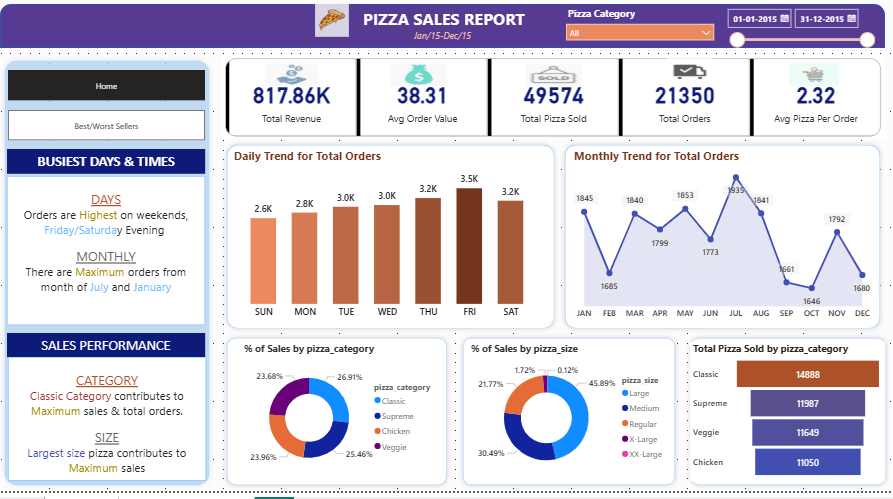

The page's visual inventory and layout, read from the dashboard file:
{"tool":"powerbi","page":{"name":"Home","canvas":[1500,820],"ordinal":0},"visuals":[{"type":"shape","box":[14.9,101,354.2,718.3],"z":0},{"type":"cardVisual","fields":{"Data":["pizza_sales.Total Revenue","pizza_sales.Avg Order Value","pizza_sales.Total Pizza Sold","pizza_sales.Total Orders","pizza_sales.Avg Pizza Per Order"]},"box":[382,100,1098,140],"z":1000},{"type":"image","box":[454,112,88,38],"z":2000},{"type":"image","box":[662,112,92,38],"z":3000},{"type":"image","box":[884,112,94,38],"z":4000},{"type":"image","box":[1118.9,104.3,76.1,46.3],"z":5000},{"type":"image","box":[1320.8,112.6,82.8,38.1],"z":6000},{"type":"shape","box":[14.9,14.9,1464.8,72.8],"z":7000},{"type":"textbox","box":[600.8,14.9,297.9,46.3],"z":8000},{"type":"textbox","box":[695.2,51.3,107.6,36.4],"z":9000},{"type":"image","box":[521.4,13.2,86.1,56.3],"z":10000},{"type":"shape","box":[382,240,558,320],"z":11000},{"type":"columnChart","title":"Daily Trend for Total Orders ","fields":{"Category":["pizza_sales.Order Day"],"Y":["pizza_sales.Total Orders"]},"box":[398,254,518,292],"z":12000},{"type":"shape","box":[942,240,538,320],"z":13000},{"type":"areaChart","title":"Monthly Trend for Total Orders","fields":{"Category":["pizza_sales.Order Month"],"Y":["pizza_sales.Total Orders"]},"box":[960,254,504,292],"z":14000},{"type":"textbox","box":[26.5,254.9,327.7,41.4],"z":15000},{"type":"shape","box":[382,560,380,260],"z":16000},{"type":"shape","box":[773,559.4,367.4,259.9],"z":17000},{"type":"shape","box":[1150.3,559.4,339.3,259.9],"z":18000},{"type":"donutChart","title":"% of Sales by pizza_category","fields":{"Category":["pizza_sales.pizza_category"],"Y":["pizza_sales.Total Revenue"]},"box":[413.8,574.3,334.3,230.1],"z":19000},{"type":"donutChart","title":"% of Sales by pizza_size","fields":{"Category":["pizza_sales.pizza_size"],"Y":["pizza_sales.Total Revenue"]},"box":[789.5,574.3,339.3,230.1],"z":20000},{"type":"funnel","fields":{"Category":["pizza_sales.pizza_category"],"Y":["pizza_sales.Total Pizza Sold"]},"box":[1157,574.3,322.8,230.1],"z":21000},{"type":"textbox","box":[26.5,299.6,327.7,246.6],"z":22000},{"type":"textbox","box":[26.5,559.4,327.7,39.7],"z":23000},{"type":"textbox","box":[28.1,599.2,327.7,205.2],"z":24000},{"type":"slicer","fields":{"Values":["pizza_sales.pizza_category"]},"box":[941.8,14.9,264.8,72.8],"z":25000},{"type":"slicer","fields":{"Values":["pizza_sales.order_date"]},"box":[1206.6,13.2,264.8,74.5],"z":26000},{"type":"pageNavigator","box":[28,124,326,50],"z":27000},{"type":"pageNavigator","box":[28,190,326,50],"z":28000}]}

Visuals, with their boxes in screenshot pixels (x1, y1, x2, y2), scaled from the page's 1500x820 canvas onto the 893x499 screenshot:
shape: 9, 61, 220, 498
cardVisual - pizza_sales.Total Revenue x pizza_sales.Avg Order Value: 227, 61, 881, 146
image: 270, 68, 323, 91
image: 394, 68, 449, 91
image: 526, 68, 582, 91
image: 666, 63, 711, 92
image: 786, 69, 836, 92
shape: 9, 9, 881, 53
textbox: 358, 9, 535, 37
textbox: 414, 31, 478, 53
image: 310, 8, 362, 42
shape: 227, 146, 560, 341
"Daily Trend for Total Orders " columnChart: 237, 155, 545, 332
shape: 561, 146, 881, 341
"Monthly Trend for Total Orders" areaChart: 572, 155, 872, 332
textbox: 16, 155, 211, 180
shape: 227, 341, 454, 498
shape: 460, 340, 679, 498
shape: 685, 340, 887, 498
"% of Sales by pizza_category" donutChart: 246, 349, 445, 490
"% of Sales by pizza_size" donutChart: 470, 349, 672, 490
funnel - pizza_sales.pizza_category x pizza_sales.Total Pizza Sold: 689, 349, 881, 490
textbox: 16, 182, 211, 332
textbox: 16, 340, 211, 365
textbox: 17, 365, 212, 490
slicer - pizza_sales.pizza_category: 561, 9, 718, 53
slicer - pizza_sales.order_date: 718, 8, 876, 53
pageNavigator: 17, 75, 211, 106
pageNavigator: 17, 116, 211, 146
